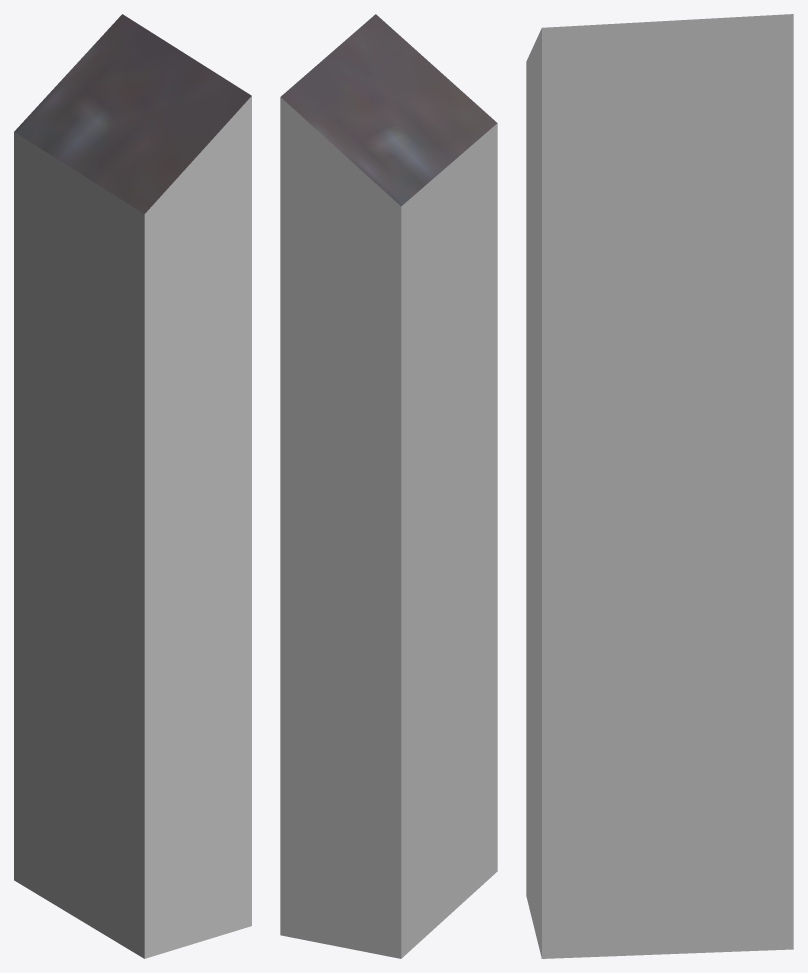
The model's file is DEBW_0010007THWG.gltf.
3 views of the same model, side by side, from view 1: azimuth 30°, elevation 25°; view 2: azimuth 150°, elevation 25°; view 3: azimuth 270°, elevation 25° (orthographic). The views are drawn at different scales.
Parts seen in each view (by area): view 1: Z_UP; view 2: Z_UP; view 3: Z_UP.
Boxes of the visible parts, left/top/right/bottom form: Z_UP: left=14, top=14, right=251, bottom=958; Z_UP: left=280, top=14, right=497, bottom=958; Z_UP: left=526, top=14, right=793, bottom=958.
Size of the model in its own units: 2.43 by 14.72 by 3.81.
2 materials, 1 textured.
